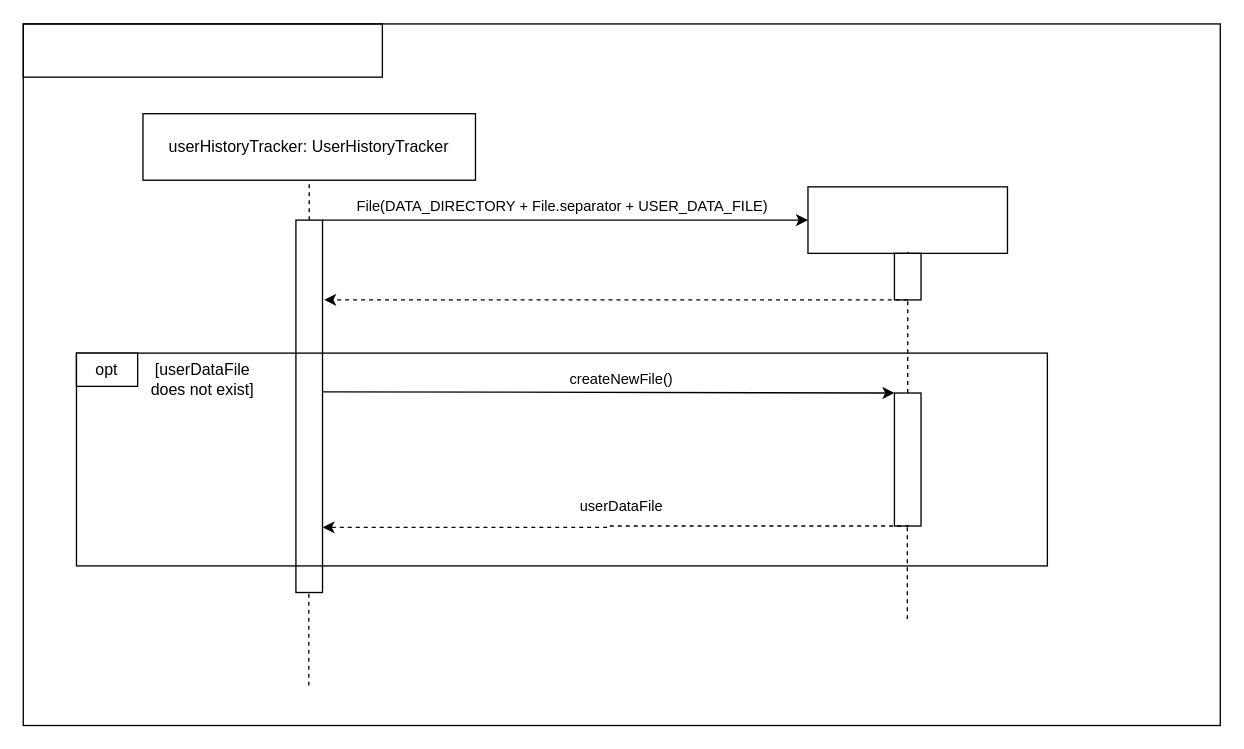
This 1244x749 diagram has some shape labels left out. The shapes that lost their labels are listed below. From the top down, each one's box as (x1, y1, x2, y2) in pixels, then its label:
(22, 23, 382, 77): sd Load UserEntries from a file via a Scanner
(807, 186, 1007, 253): userDataFile: File
